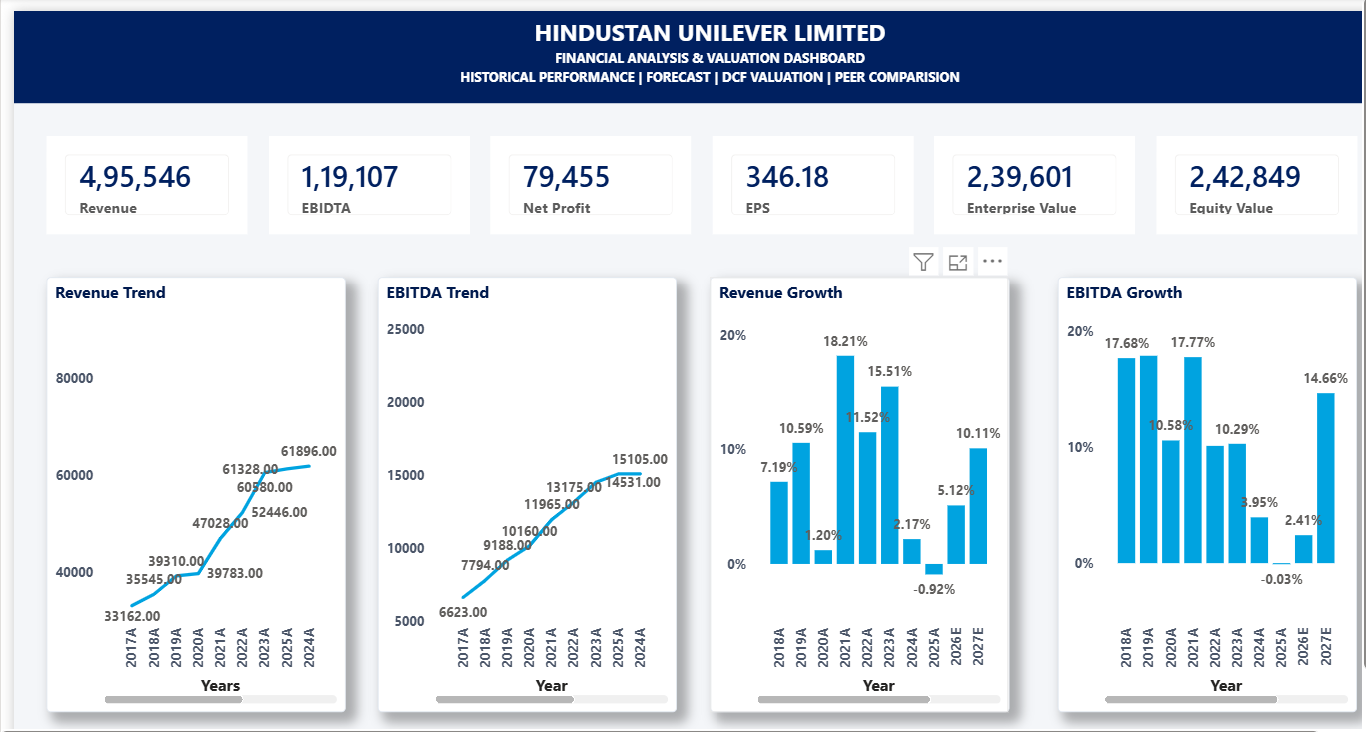

The dashboard page shown, as its layout file describes it:
{"tool":"powerbi","page":{"name":"Executive Summary","canvas":[1280,720],"ordinal":0},"visuals":[{"type":"textbox","box":[0,0,1280,85],"z":0},{"type":"cardVisual","fields":{"Data":["Sum(Historicals.Revenue)"]},"box":[30,115,185,90],"z":1000},{"type":"cardVisual","fields":{"Data":["Sum(Historicals.Net Profit)"]},"box":[438,115,185,90],"z":2000},{"type":"cardVisual","fields":{"Data":["Sum(Historicals.EPS)"]},"box":[642,115,185,90],"z":3000},{"type":"cardVisual","fields":{"Data":["Sum(DCF.Value)"]},"box":[846,115,185,90],"z":4000},{"type":"cardVisual","fields":{"Data":["Sum(DCF.Value)"]},"box":[1050,115,185,90],"z":5000},{"type":"cardVisual","fields":{"Data":["Sum(Historicals.EBIDTA)"]},"box":[234,115,185,90],"z":6000},{"type":"lineChart","title":"Revenue Trend","fields":{"Category":["Forecast.Year"],"Y":["Sum(Forecast.Revenue)"]},"box":[30,245,275,400],"z":7000},{"type":"lineChart","title":"EBITDA Trend","fields":{"Y":["Sum(Forecast.EBIDTA)"],"Category":["Forecast.Year"]},"box":[335,245,275,400],"z":8000},{"type":"clusteredColumnChart","title":"Revenue Growth","fields":{"Category":["Forecast.Year"],"Y":["Sum(Forecast.Revenue Growth)"]},"box":[640,245,275,400],"z":9000},{"type":"clusteredColumnChart","title":"EBITDA Growth","fields":{"Category":["Forecast.Year"],"Y":["Sum(Forecast.EBIDTA Growth)"]},"box":[960,245,275,400],"z":10000}]}

Visuals, with their boxes on the page's 1280x720 design canvas (x1, y1, x2, y2). These are canvas units, not pixel positions in the 1366x732 screenshot, which may show the page scaled, cropped or inside an application window:
textbox: Rect(0, 0, 1280, 85)
cardVisual - Sum(Historicals.Revenue): Rect(30, 115, 215, 205)
cardVisual - Sum(Historicals.Net Profit): Rect(438, 115, 623, 205)
cardVisual - Sum(Historicals.EPS): Rect(642, 115, 827, 205)
cardVisual - Sum(DCF.Value): Rect(846, 115, 1031, 205)
cardVisual - Sum(DCF.Value): Rect(1050, 115, 1235, 205)
cardVisual - Sum(Historicals.EBIDTA): Rect(234, 115, 419, 205)
"Revenue Trend" lineChart: Rect(30, 245, 305, 645)
"EBITDA Trend" lineChart: Rect(335, 245, 610, 645)
"Revenue Growth" clusteredColumnChart: Rect(640, 245, 915, 645)
"EBITDA Growth" clusteredColumnChart: Rect(960, 245, 1235, 645)
